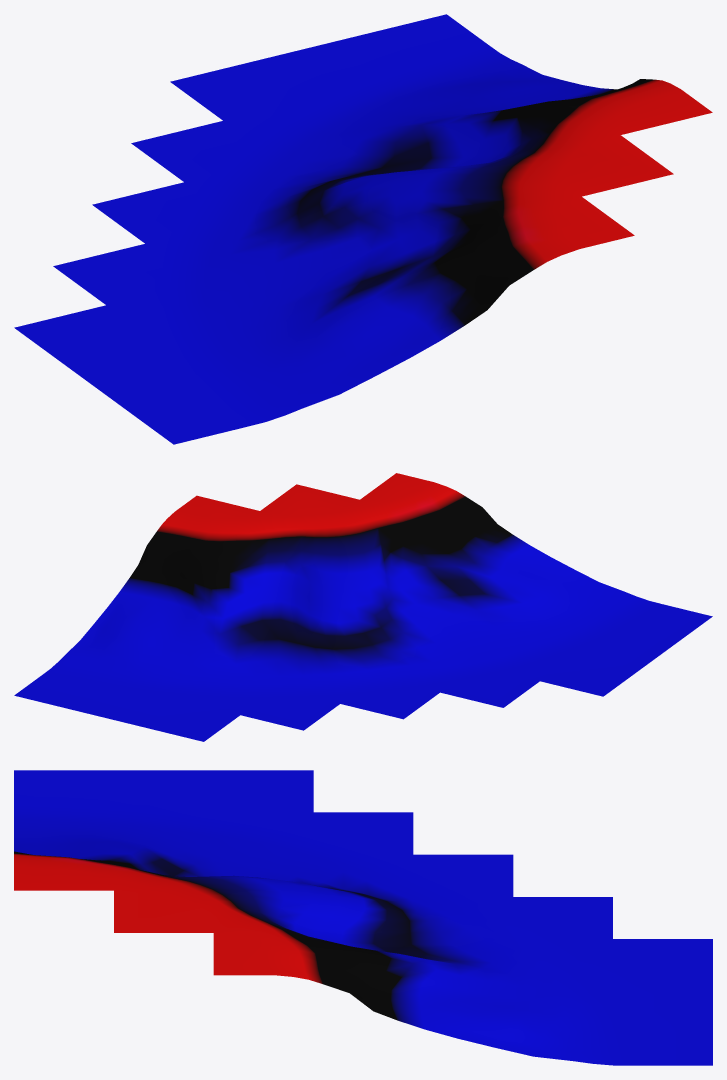
The model's file is SeaShore04A Background.fbx.
The picture shows the model from 3 angles, top to bottom: view 1: azimuth 30°, elevation 25°; view 2: azimuth 150°, elevation 25°; view 3: azimuth 270°, elevation 25°; orthographic projection. The views are drawn at different scales.
Parts seen in each view (by area): view 1: SeaShore04A Background; view 2: SeaShore04A Background; view 3: SeaShore04A Background.
Boxes of the visible parts, x1,y1,x2,y2 form: SeaShore04A Background: (14,14,712,444); SeaShore04A Background: (14,473,712,741); SeaShore04A Background: (14,770,712,1065).
Bounding box in the file's own units: 7 × 1 × 7.
